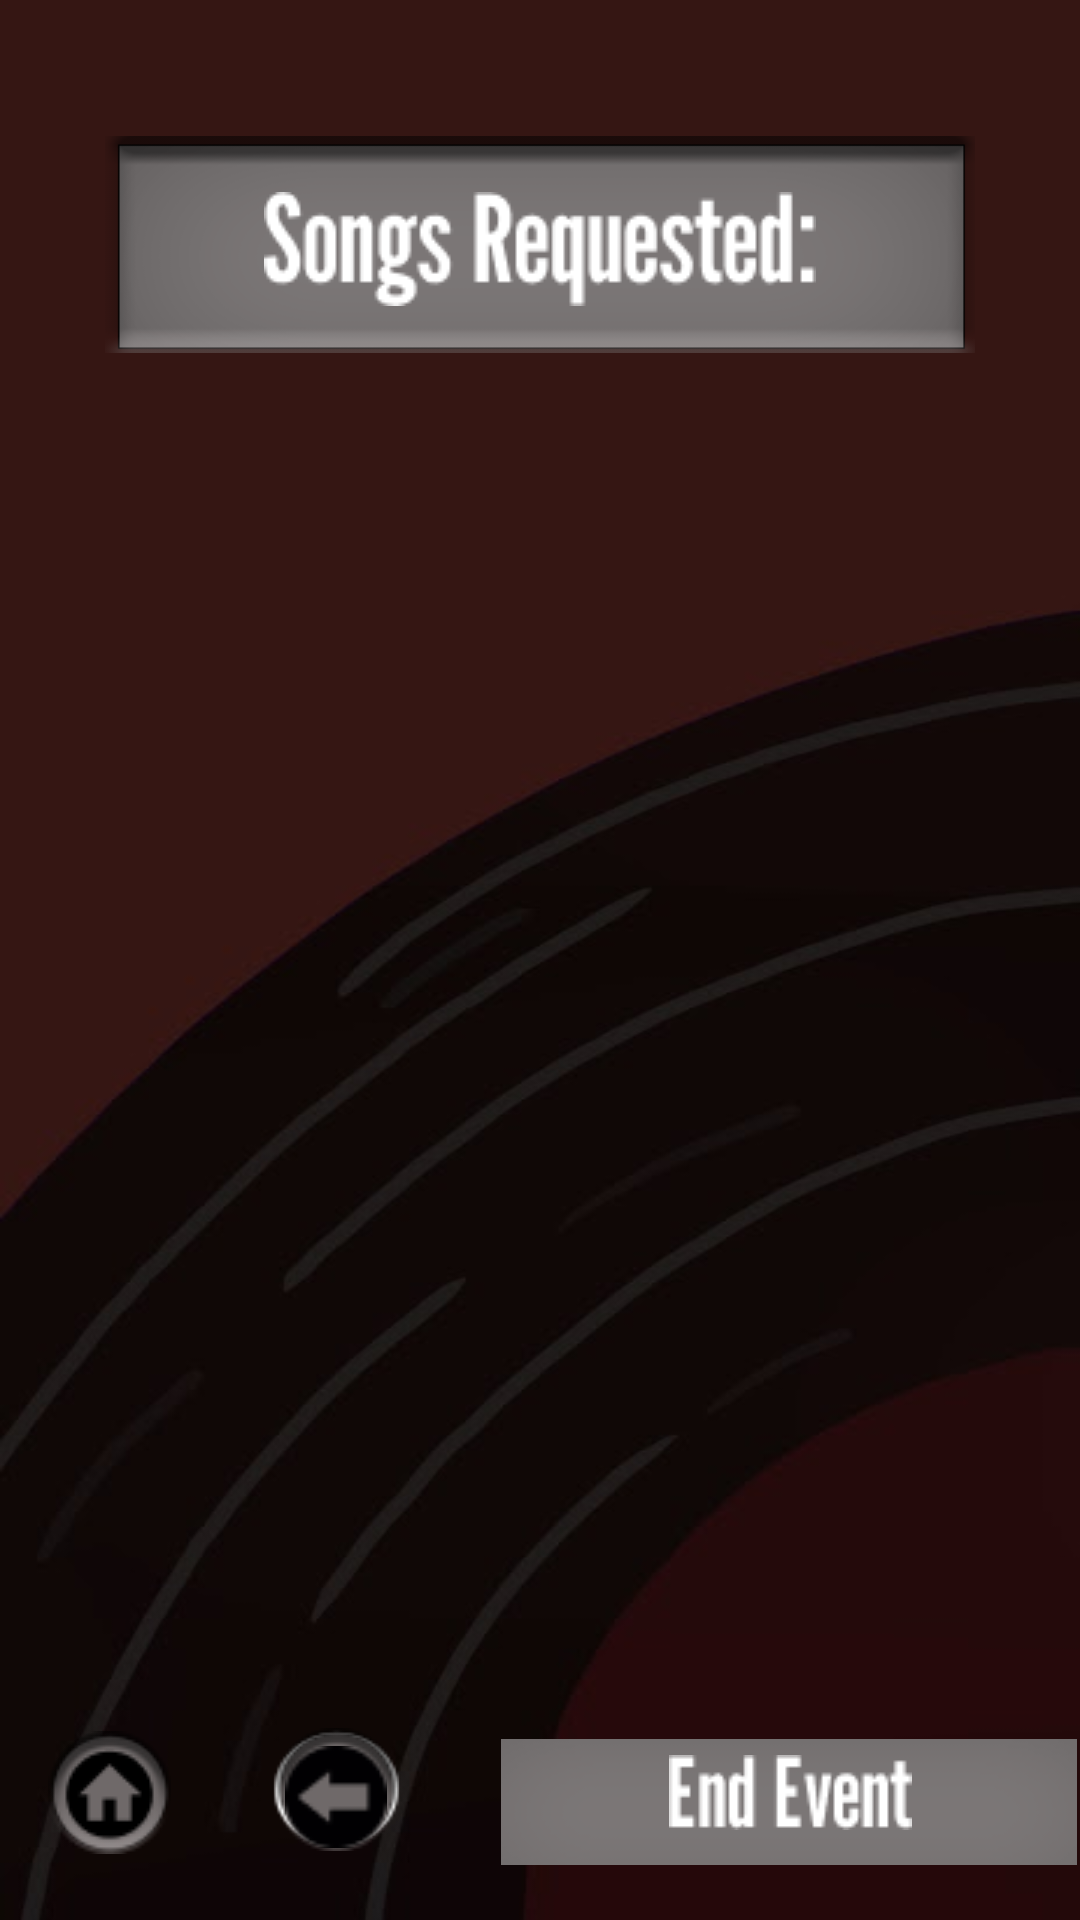

Icons on this 1080px×1920px Android screen, each with the point to tap as (x,y):
back arrow: (337,1797)
home circle: (109,1795)
